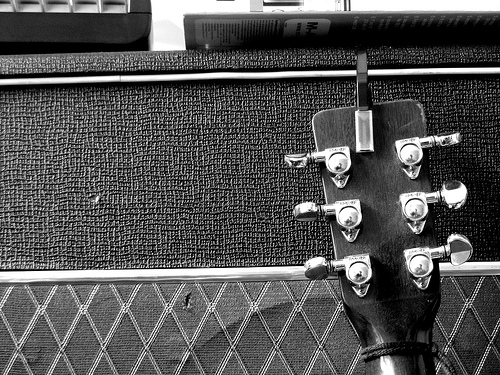guitar: (293, 96, 460, 375)
